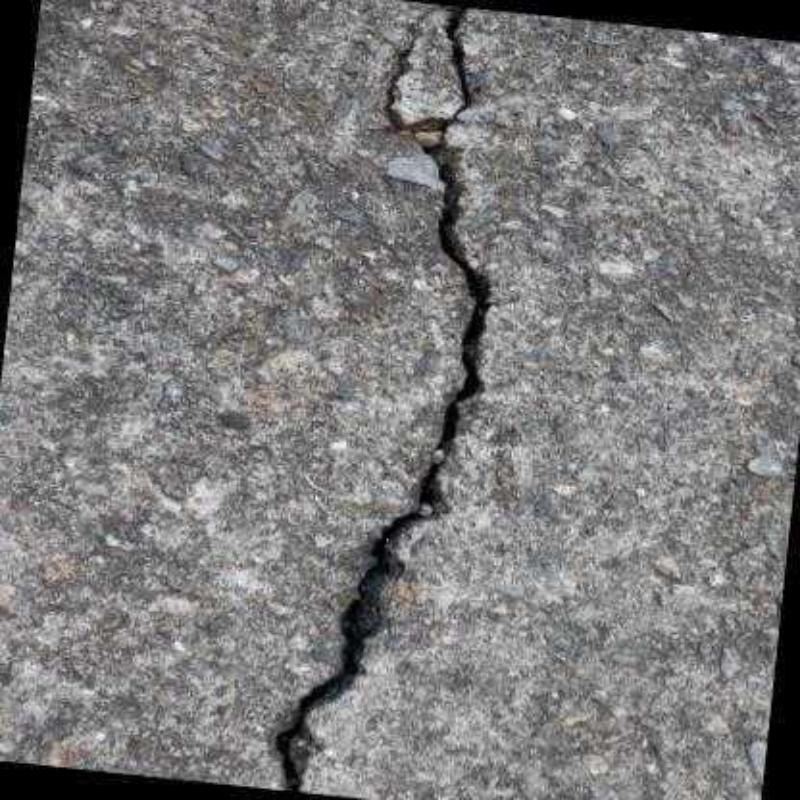pothole: (273, 4, 491, 792)
